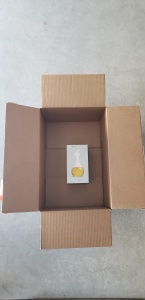innerbox: (41, 108, 111, 209)
outerbox: (5, 74, 145, 250)
product: (66, 144, 89, 185)
